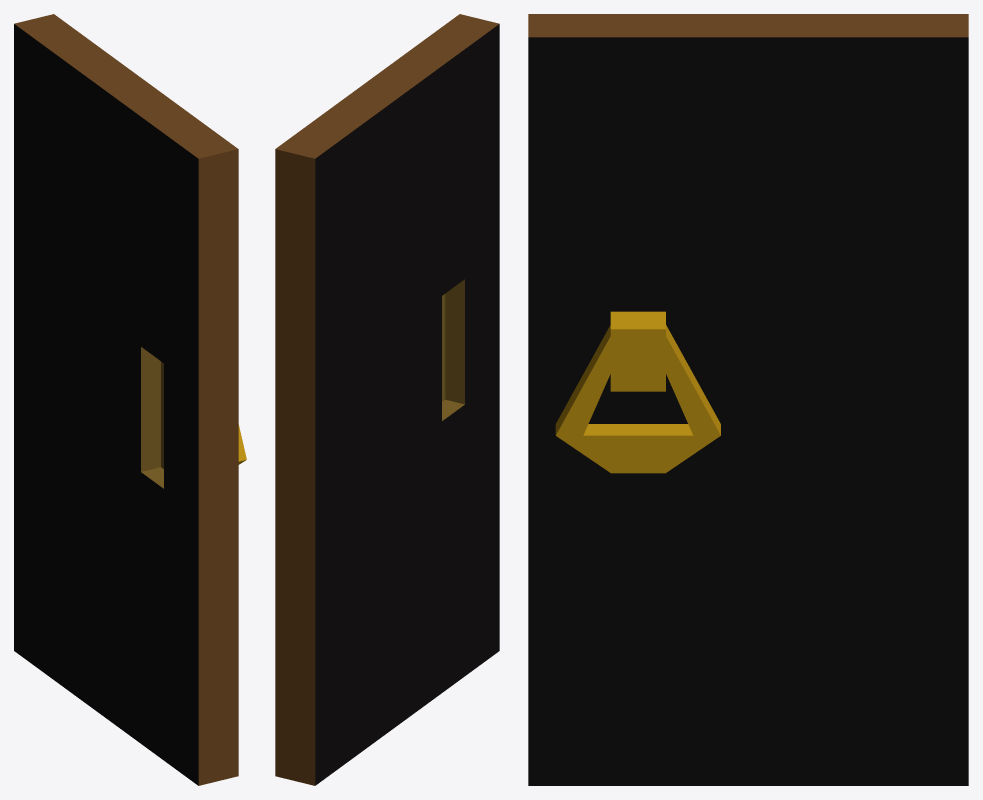
File: obj_mine_door_entrance_4_0.obj
3 renders of one model, left to right at view 1: azimuth 30°, elevation 25°; view 2: azimuth 150°, elevation 25°; view 3: azimuth 270°, elevation 25°, orthographic. The views are drawn at different scales.
Size of the model in its own units: 0.2188 by 1.88 by 1.
